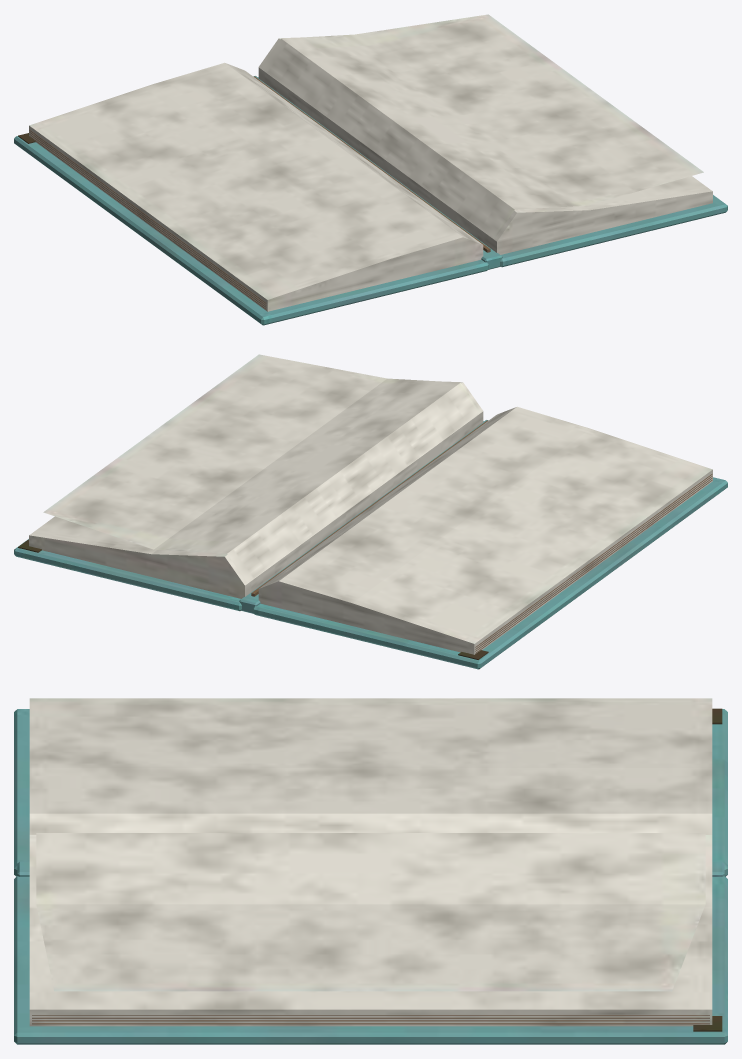
The model's file is D09_open_books_on_floor_v2.glb.
The picture shows the model from 3 angles, top to bottom: view 1: azimuth 30°, elevation 25°; view 2: azimuth 150°, elevation 25°; view 3: azimuth 270°, elevation 25°; orthographic projection. The views are drawn at different scales.
Parts seen in each view (by area): view 1: Worn cover; view 2: Worn cover; view 3: Worn cover.
Boxes of the visible parts, left/top/right/bottom form: Worn cover: left=14, top=14, right=727, bottom=325; Worn cover: left=14, top=354, right=727, bottom=669; Worn cover: left=14, top=698, right=727, bottom=1044.
Size of the model in its own units: 0.4 by 0.0393 by 0.3699.
Materials: 4 (4 with a texture image).
